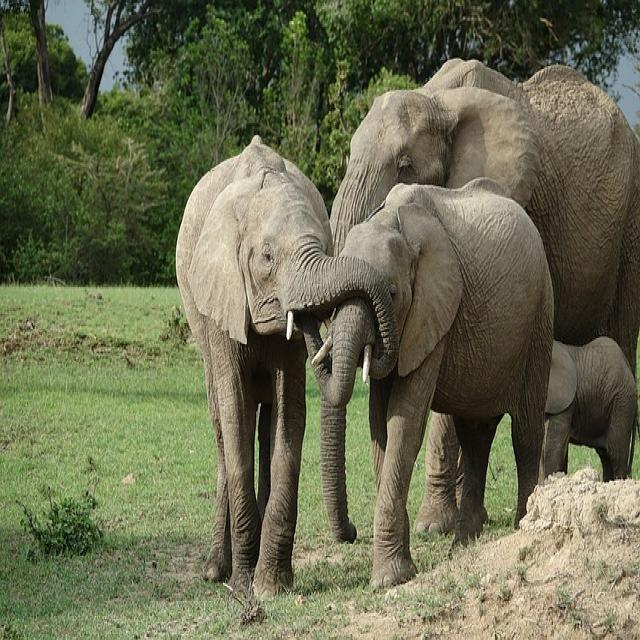elephant: (176, 137, 398, 596), (331, 58, 640, 371), (343, 180, 552, 587), (315, 300, 375, 407), (415, 413, 460, 531), (323, 406, 355, 541)
